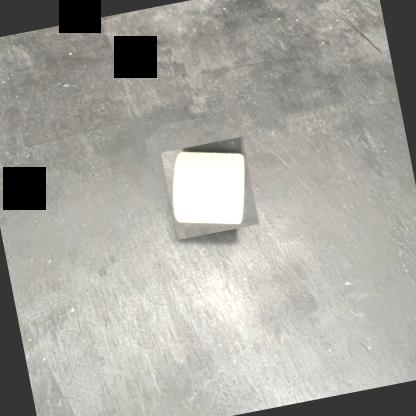white cylinder: (160, 136, 258, 240)
